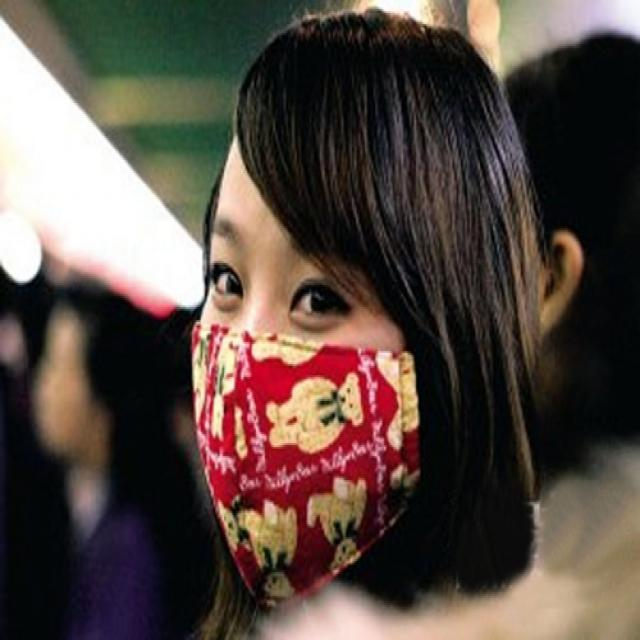mask: (190, 132, 424, 578)
